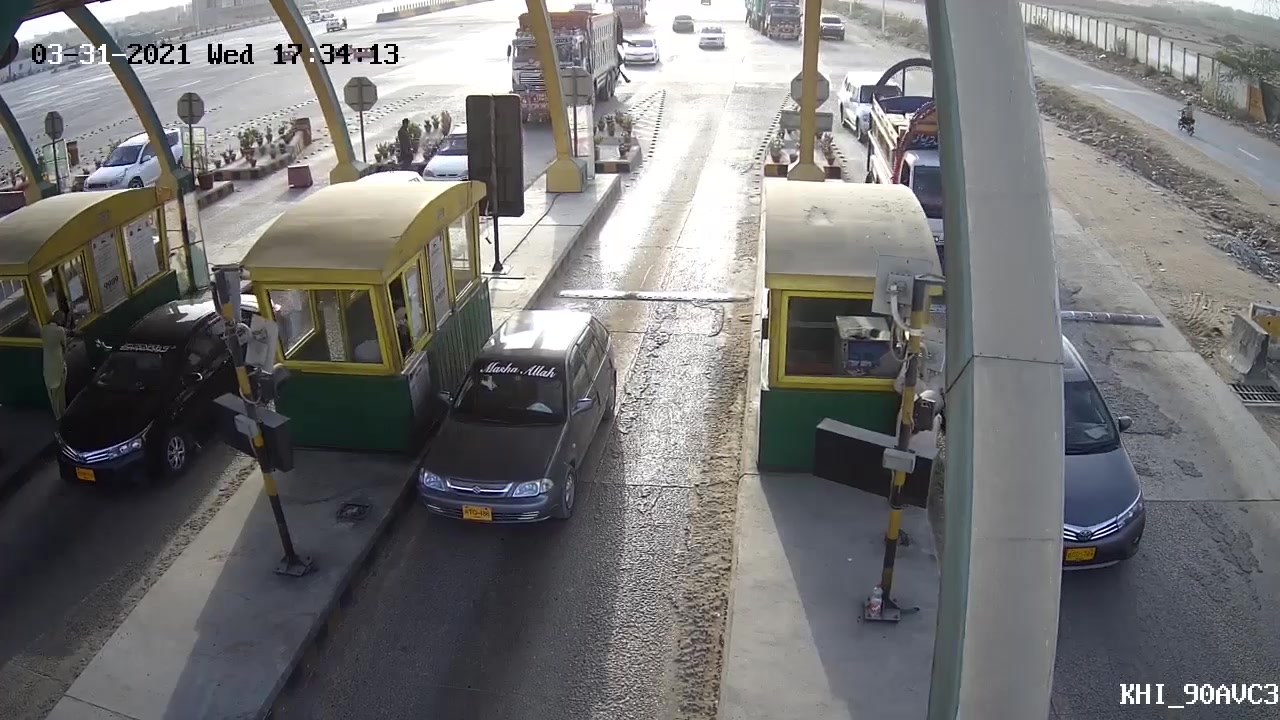F1: (416, 300, 627, 556)
